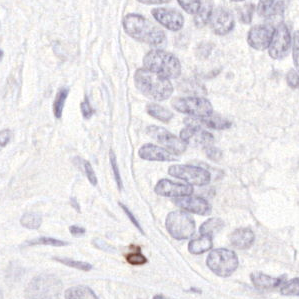Lymphocyte: (121, 243, 150, 268)
